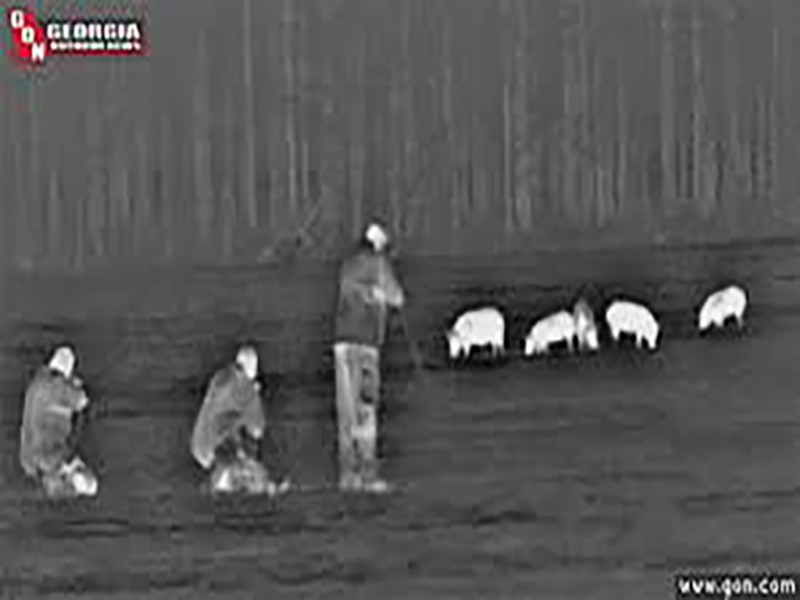cacciatore: (336, 212, 407, 501), (206, 346, 283, 513), (25, 348, 104, 506)
cinghiale: (439, 303, 512, 363), (606, 299, 672, 363), (522, 308, 585, 364), (696, 279, 754, 332)
